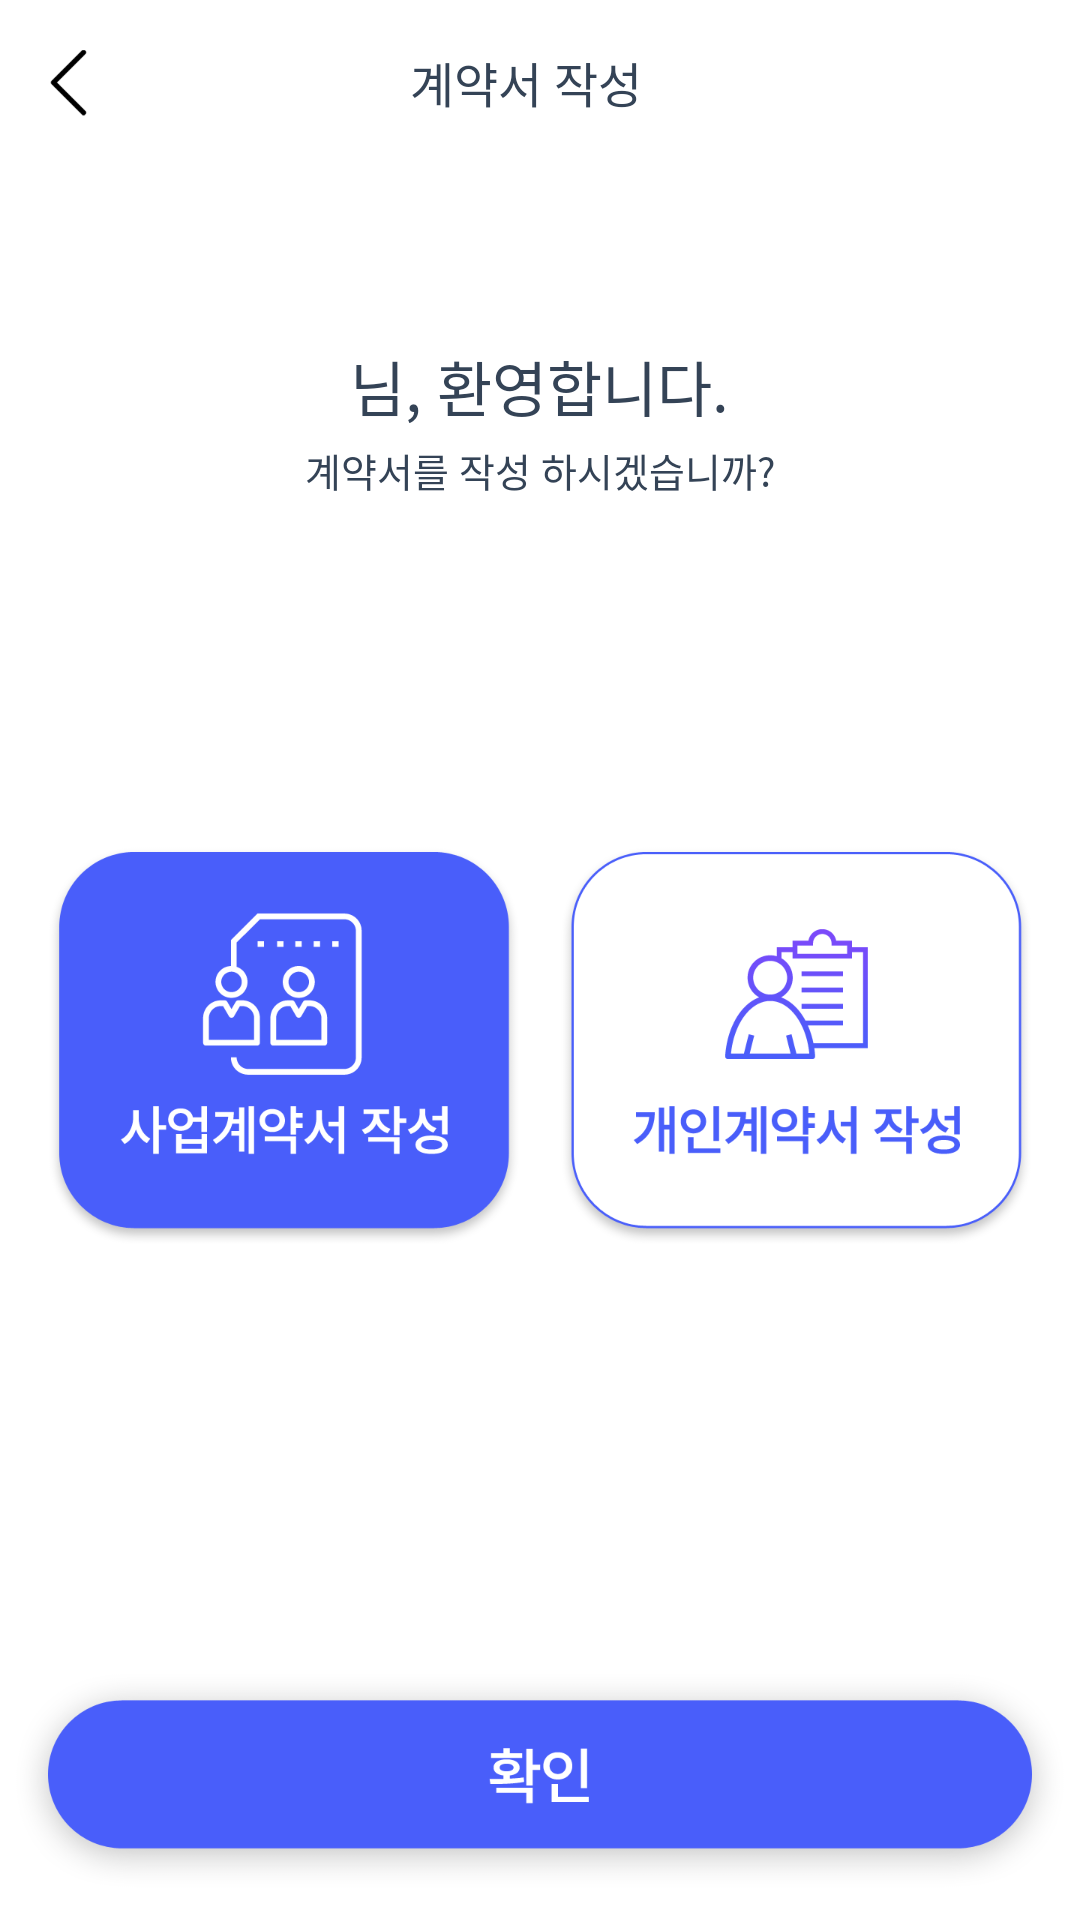

Locate icon controls on the screen. Image size 1080x1920, boxes as (x1, y1, x2, y2).
top back: (50, 50, 87, 116)
